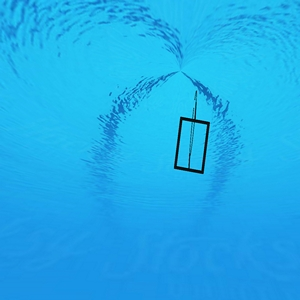circle: (172, 89, 212, 178)
